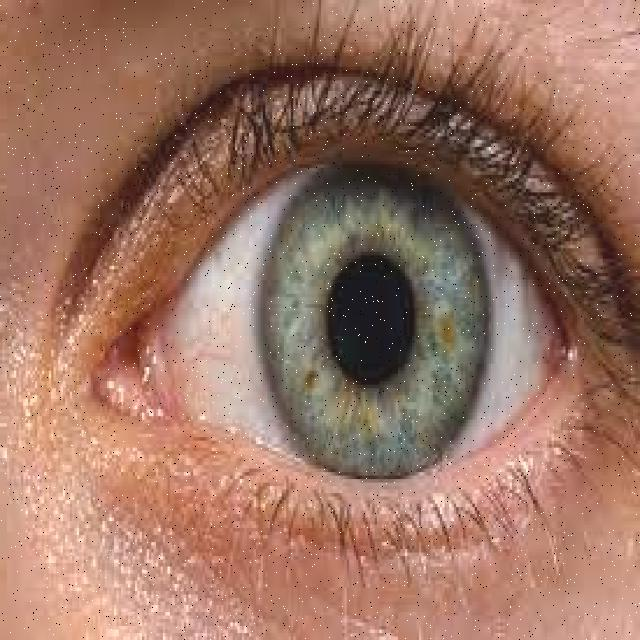Normal: (53, 68, 640, 523)
